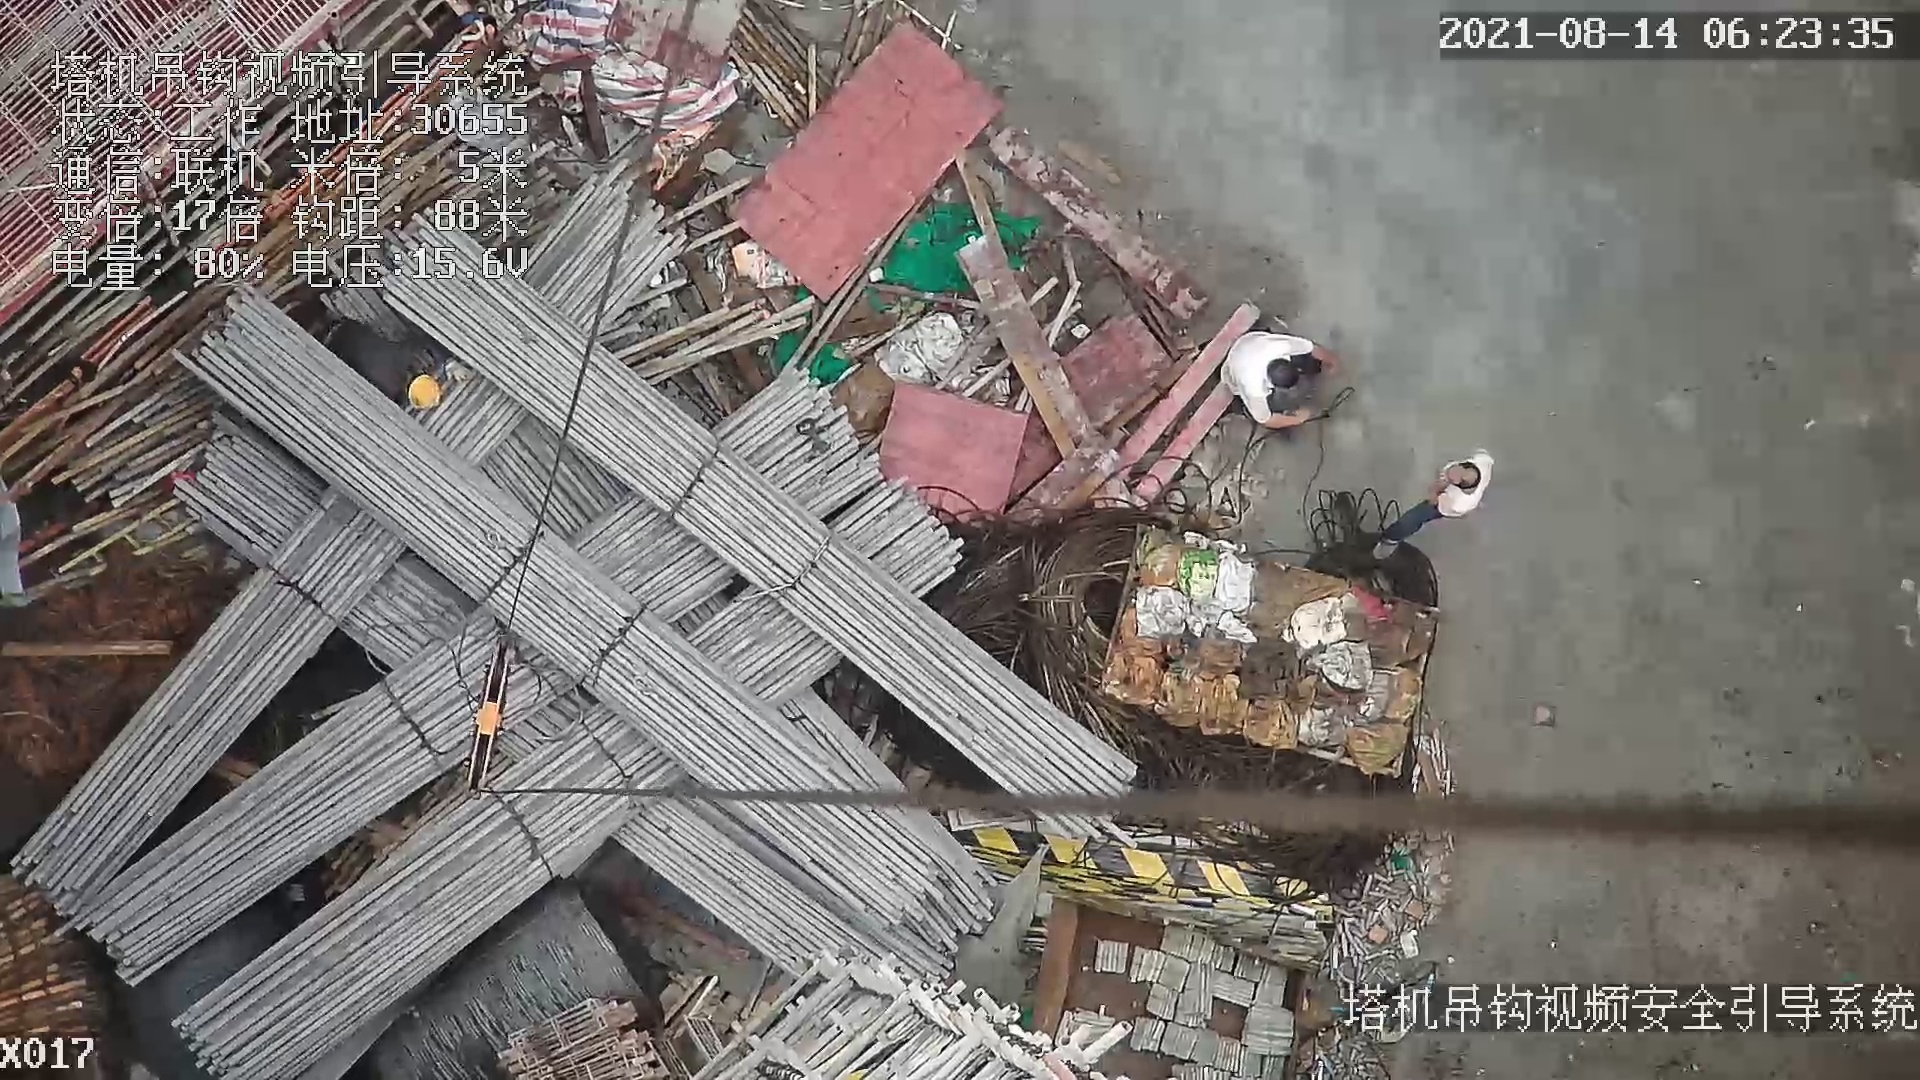helmet: (405, 374, 445, 408)
hook: (469, 640, 522, 808)
person: (1374, 418, 1500, 556), (1217, 328, 1342, 433), (327, 323, 462, 413)
rebar: (175, 287, 952, 930), (386, 284, 1148, 849), (170, 734, 639, 1080), (16, 492, 398, 915), (65, 622, 469, 985)
wood: (1, 876, 108, 1033)
